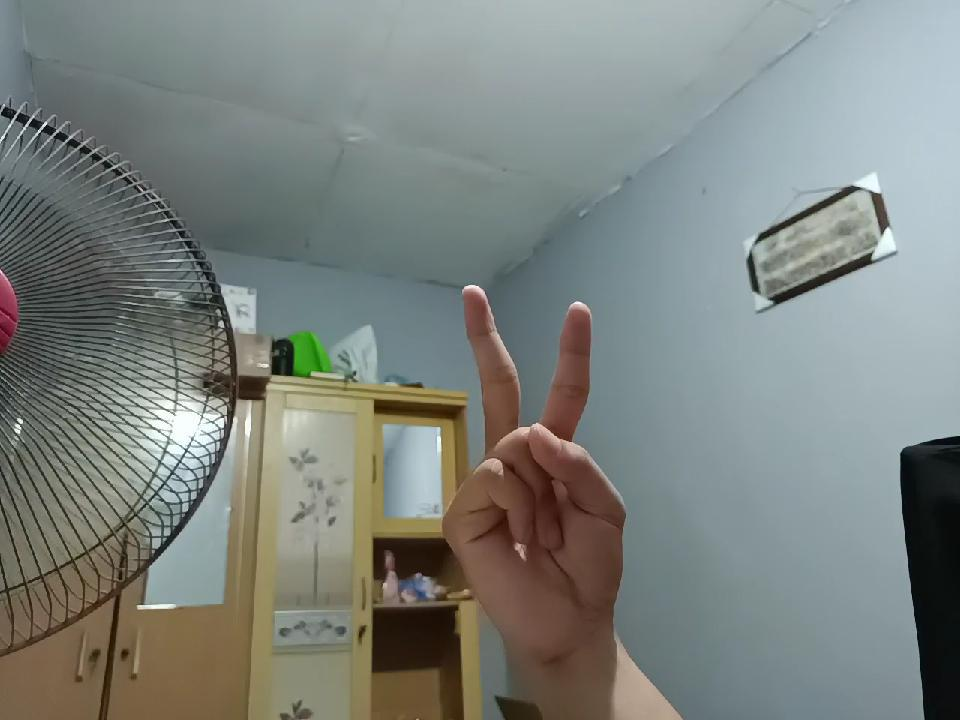scissors: (451, 264, 618, 698)
